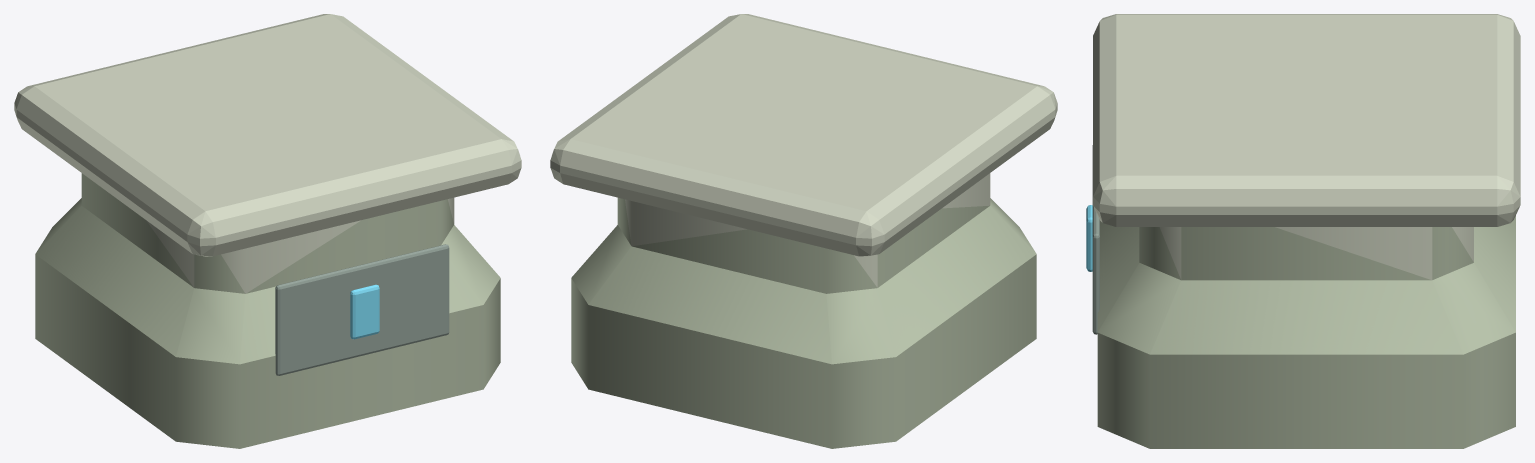
Rendered from Wall.fbx.
3 views of the same model, side by side, from view 1: azimuth 30°, elevation 25°; view 2: azimuth 150°, elevation 25°; view 3: azimuth 270°, elevation 25° (orthographic). The views are drawn at different scales.
Visible parts, largest first — view 1: Wall.001; view 2: Wall.001; view 3: Wall.001.
Part boxes in pixels (x1,y1,x2,y2): Wall.001: (14,14,521,448); Wall.001: (550,14,1057,448); Wall.001: (1086,14,1520,448).
Bounding box in the file's own units: 92 × 63 × 93.4.
